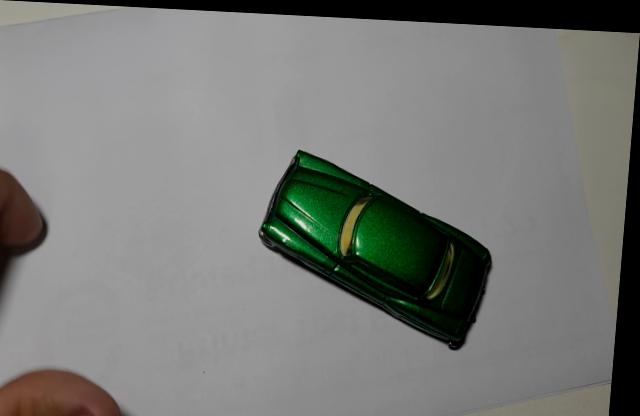06_MASERATI: (260, 147, 497, 346)
